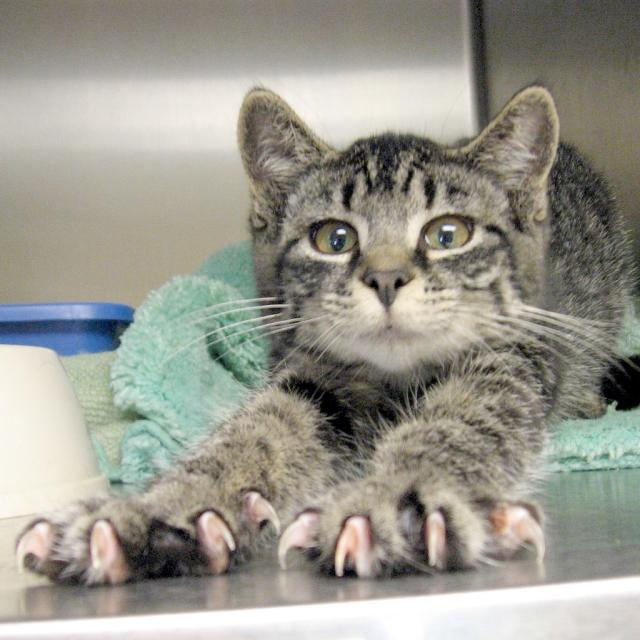cat: (15, 80, 640, 588)
